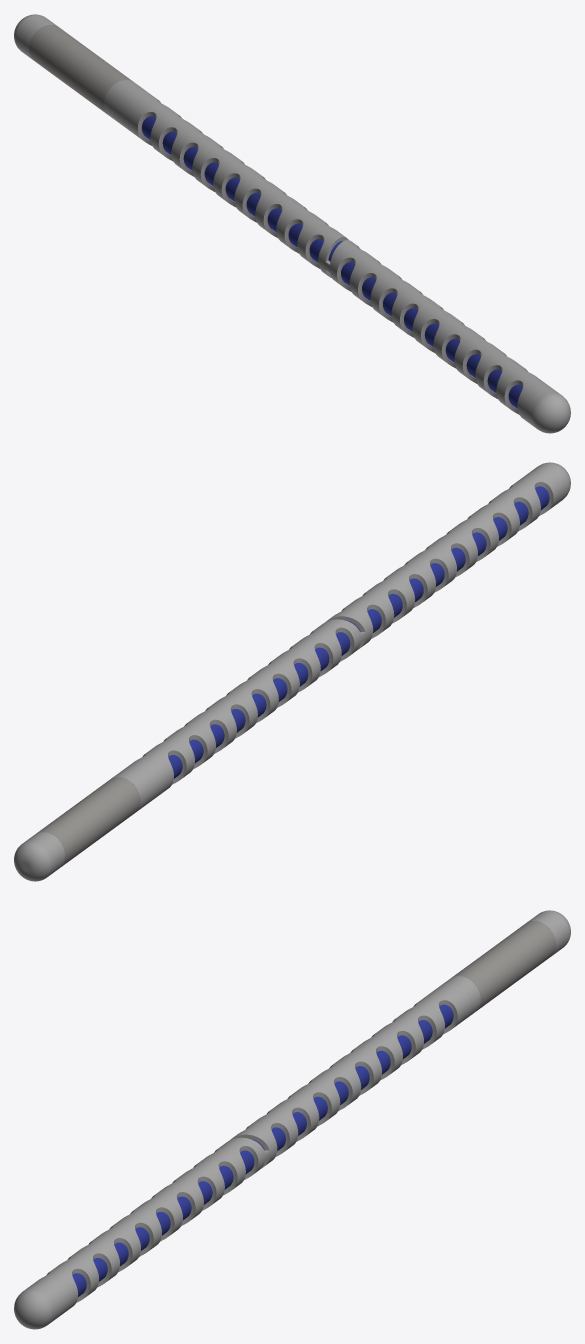
Rendered from blackwidow v3.fbx.
The picture shows the model from 3 angles, top to bottom: view 1: azimuth 30°, elevation 25°; view 2: azimuth 150°, elevation 25°; view 3: azimuth 330°, elevation 25°; orthographic projection.
Parts seen in each view (by area): view 1: Body3, Body2, Body9, Body7; view 2: Body3, Body2, Body9, Body7; view 3: Body3, Body2, Body9, Body7.
Boxes of the visible parts, x1,y1,x2,y2 form: Body3: (112,86,570,433); Body2: (142,116,522,408); Body9: (28,25,131,115); Body7: (14,14,57,59); Body3: (120,462,570,805); Body2: (168,486,549,778); Body9: (36,777,140,866); Body7: (14,832,64,881); Body3: (14,982,472,1329); Body2: (72,1004,453,1296); Body9: (453,921,556,1011); Body7: (527,910,570,955).
Bounding box in the file's own units: 50.01 × 50 × 1275.
